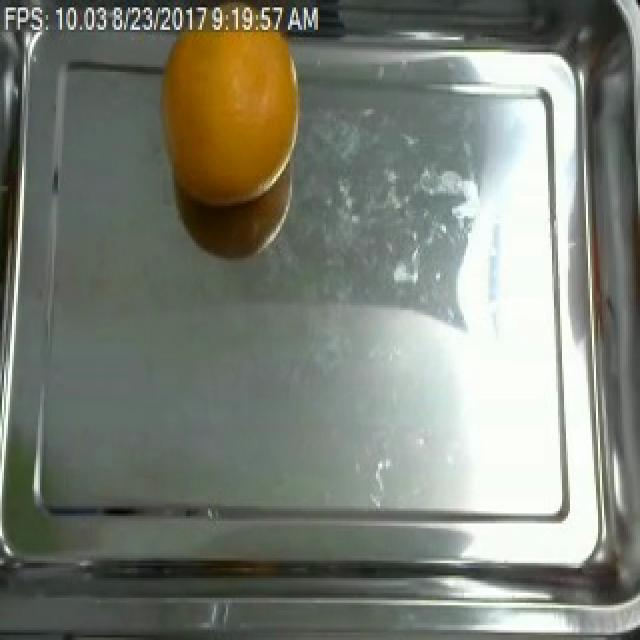Fruit: (152, 0, 310, 216)
